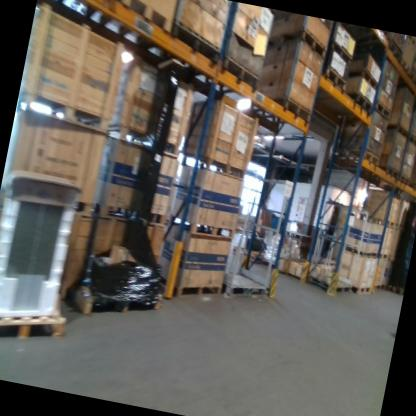pallet: (70, 270, 164, 329), (15, 88, 117, 138), (0, 293, 70, 357), (104, 120, 185, 161), (162, 21, 224, 72), (88, 194, 168, 233), (149, 266, 223, 304), (265, 21, 332, 58), (166, 211, 236, 243), (114, 0, 178, 34), (179, 152, 249, 183), (212, 53, 264, 92), (262, 92, 314, 126), (305, 270, 353, 295), (316, 62, 350, 95), (337, 144, 381, 167), (346, 64, 381, 92), (230, 243, 269, 267), (343, 243, 389, 263), (340, 88, 375, 114), (324, 41, 355, 67), (361, 211, 397, 231), (71, 194, 98, 219), (383, 40, 405, 64), (371, 100, 392, 121), (377, 163, 402, 179), (385, 122, 408, 139), (350, 283, 372, 297), (398, 58, 413, 78), (396, 171, 413, 187), (403, 132, 416, 148), (406, 71, 416, 89), (404, 35, 416, 48), (379, 281, 391, 293), (371, 282, 381, 292), (410, 183, 416, 193)
